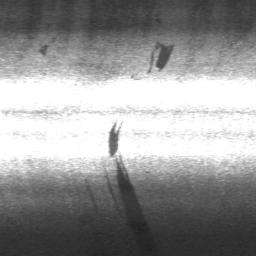Iron scale compression: (115, 156, 156, 256), (146, 42, 174, 73), (108, 117, 123, 157), (41, 45, 48, 55)
